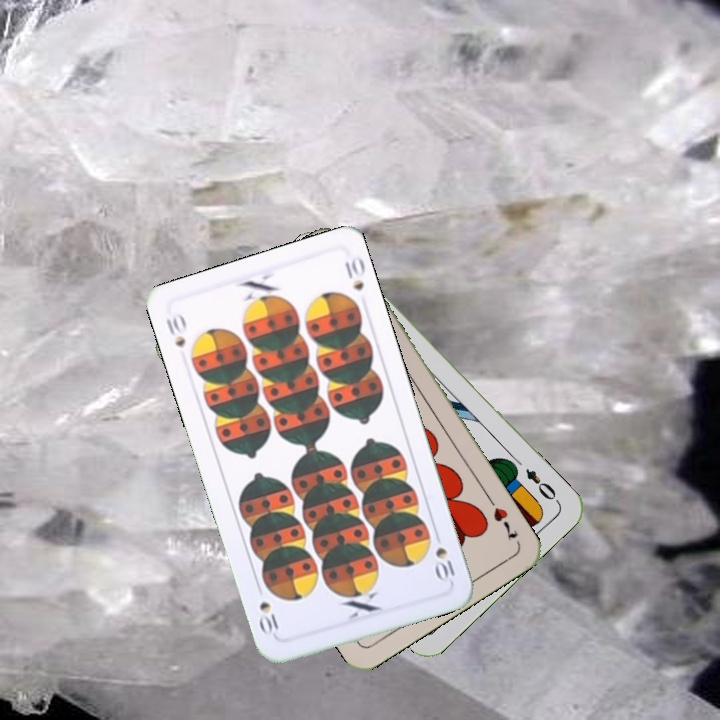EO: (521, 464, 559, 503)
H7: (483, 493, 521, 544)
S10: (430, 527, 459, 584), (162, 309, 189, 351)
